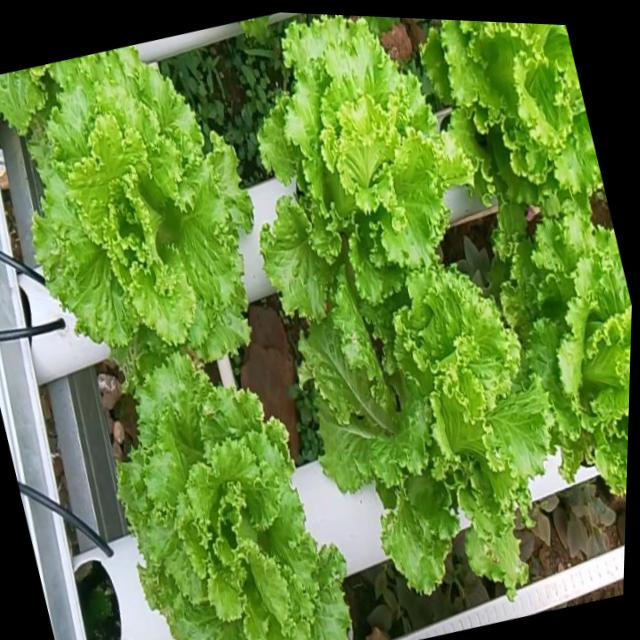Mature: (297, 253, 544, 629), (0, 45, 249, 371), (113, 344, 348, 640), (255, 13, 468, 315), (498, 206, 632, 490), (419, 19, 602, 225)
